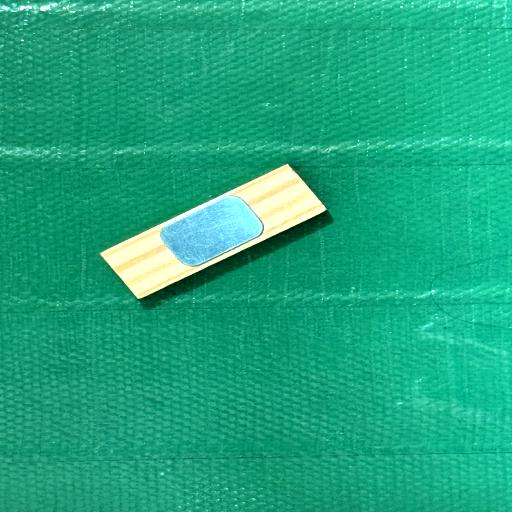objects: (99, 157, 328, 306)
